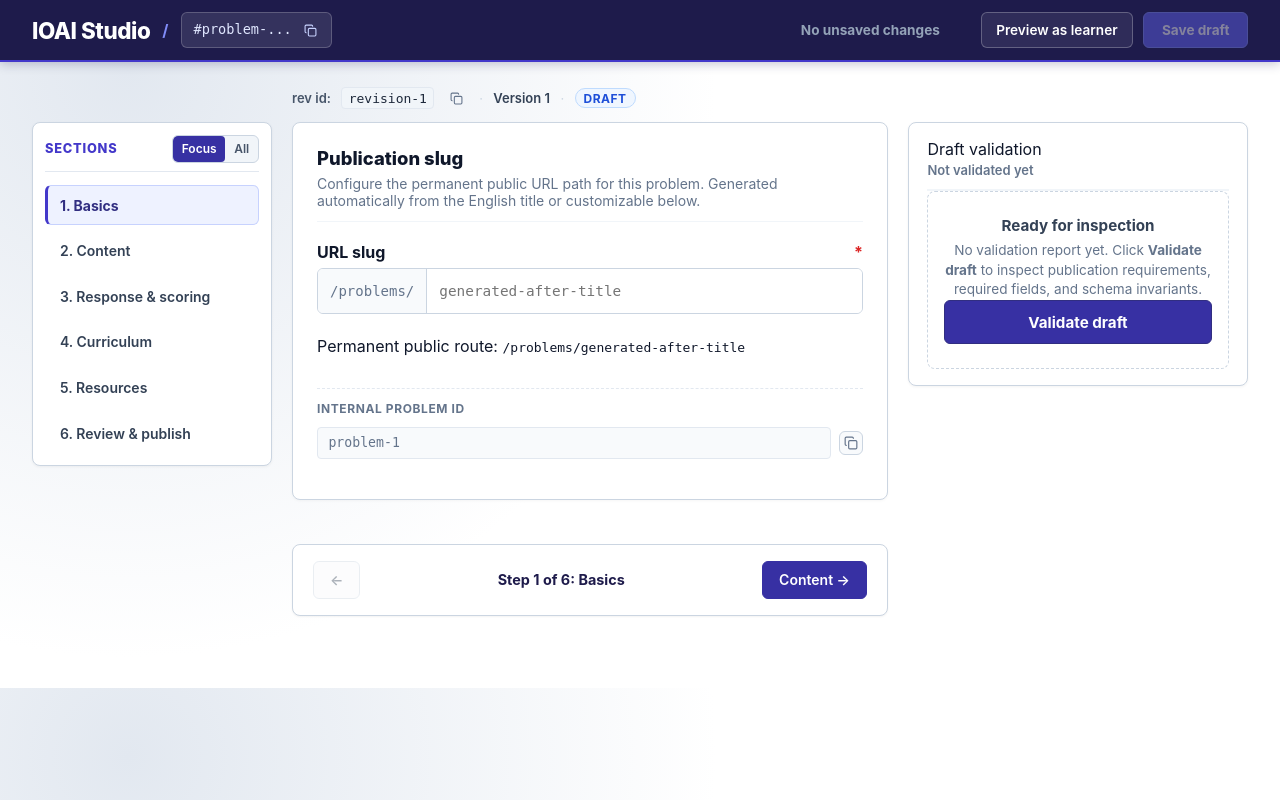
draft editor coordinator › tracks dirty fields and saves against the current version
Type "metrics-basics" into the field labelled "URL slug" at (645, 291), box top-left (427, 269), bottom-right (862, 313)
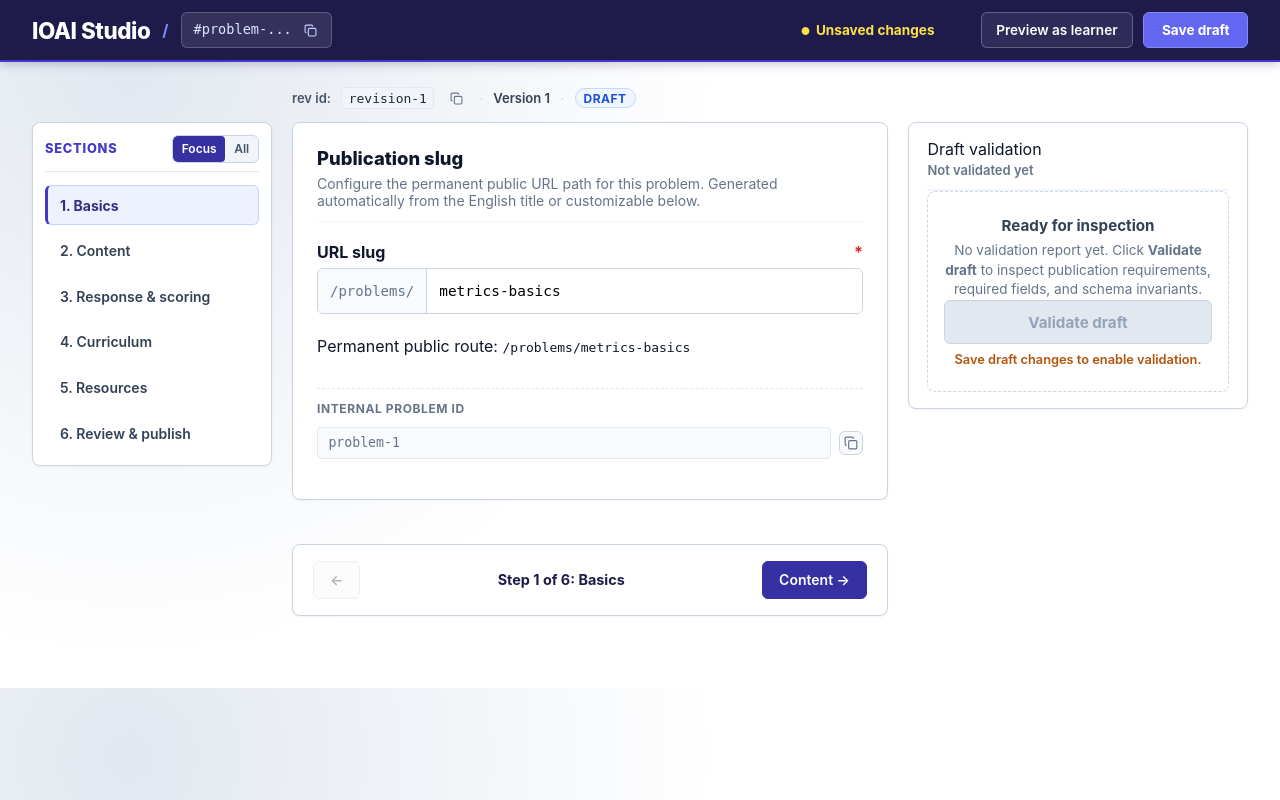
Expected: the text "Unsaved changes" is shown, top-left (801, 22), bottom-right (934, 38)
Click the button "Save draft" at (1196, 30), box top-left (1143, 12), bottom-right (1248, 48)
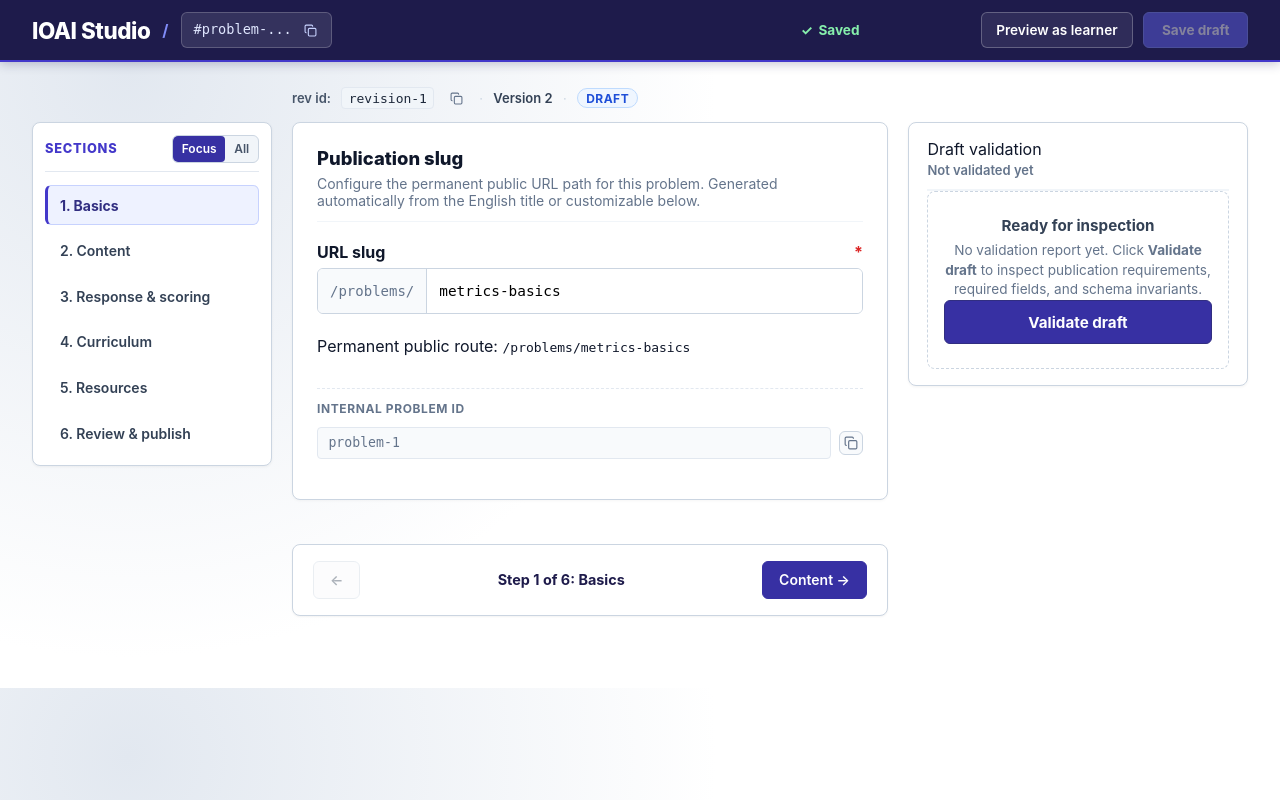
Expected: the text "Saved" is shown, top-left (801, 22), bottom-right (860, 38)
Expected: the text "Version 2" is shown, top-left (493, 90), bottom-right (553, 106)
